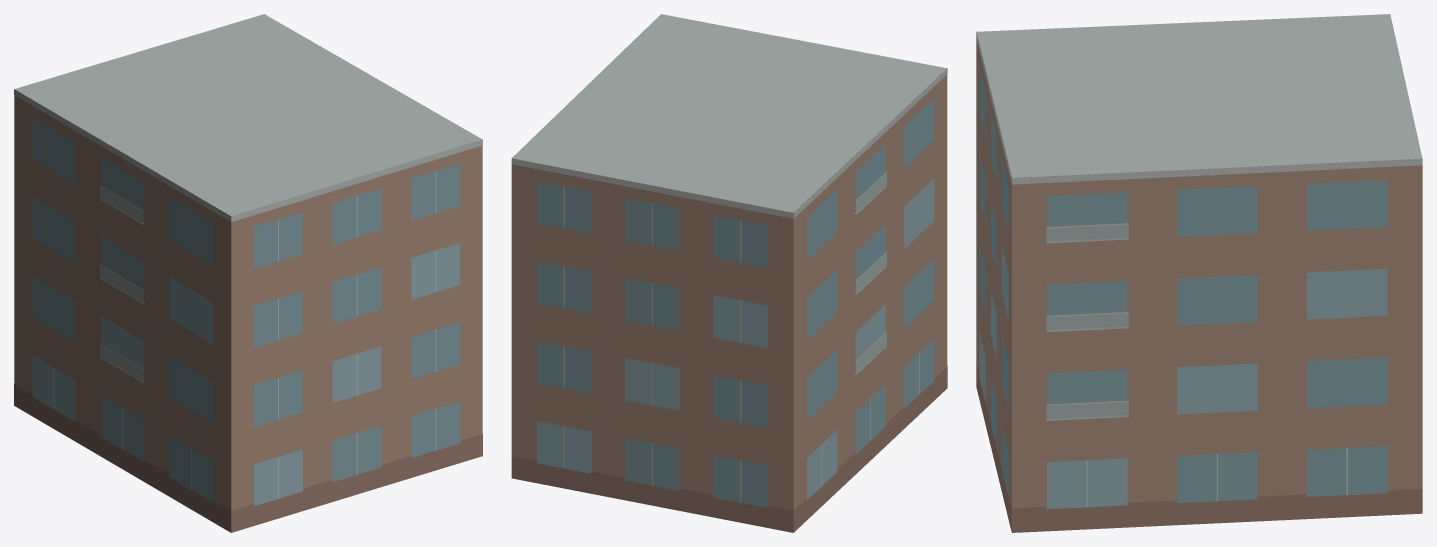
The model's file is survey-upis-32922705.glb.
The picture shows the model from 3 angles, left to right: view 1: azimuth 30°, elevation 25°; view 2: azimuth 150°, elevation 25°; view 3: azimuth 270°, elevation 25°; orthographic projection. The views are drawn at different scales.
Visible parts, largest first — view 1: survey-upis-32922705.tmp; view 2: survey-upis-32922705.tmp; view 3: survey-upis-32922705.tmp.
Boxes of the visible parts, left/top/right/bottom form: survey-upis-32922705.tmp: left=14, top=14, right=482, bottom=532; survey-upis-32922705.tmp: left=511, top=14, right=947, bottom=532; survey-upis-32922705.tmp: left=976, top=14, right=1422, bottom=532.
Size of the model in its own units: 12.89 by 13 by 14.82.
